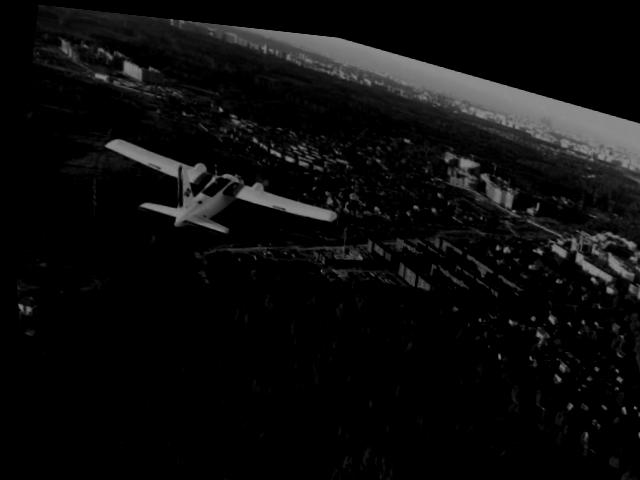hedef: (60, 108, 355, 273)
